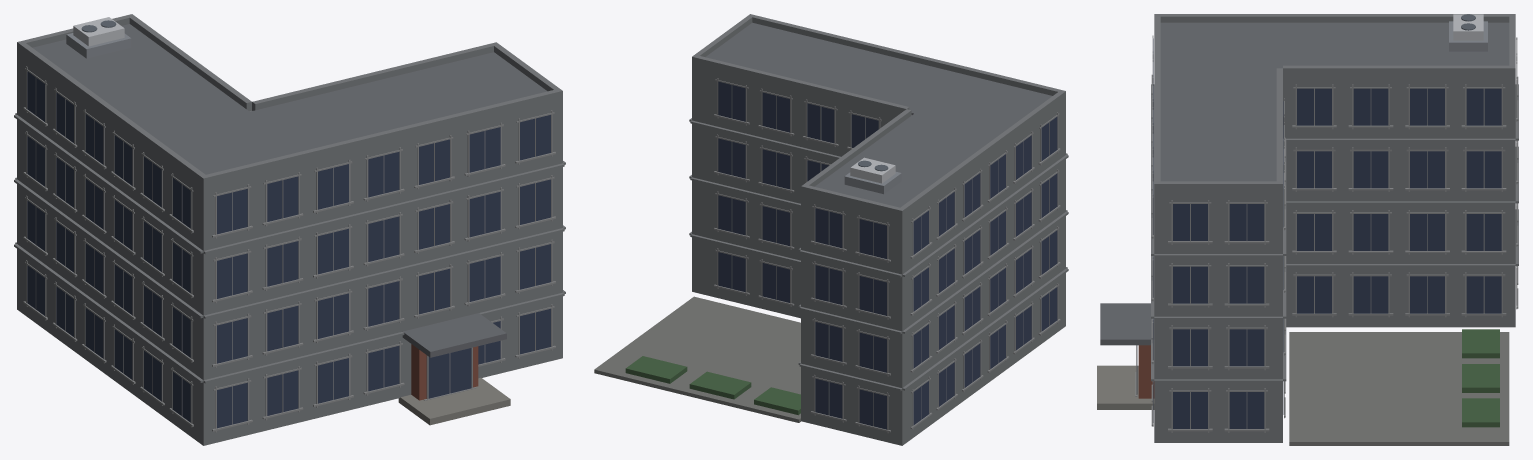
Rendered from civic_corner_07x04_lvl1.glb.
3 views of the same model, side by side, from view 1: azimuth 30°, elevation 25°; view 2: azimuth 150°, elevation 25°; view 3: azimuth 270°, elevation 25° (orthographic). The views are drawn at different scales.
Visible parts, largest first — view 1: civic_corner_07x04; view 2: civic_corner_07x04; view 3: civic_corner_07x04.
Part boxes in pixels (x1,y1,x2,y2): civic_corner_07x04: (14, 14, 565, 445); civic_corner_07x04: (594, 14, 1068, 445); civic_corner_07x04: (1097, 14, 1518, 445).
Bounding box in the file's own units: 0.9691 × 0.743 × 1.
